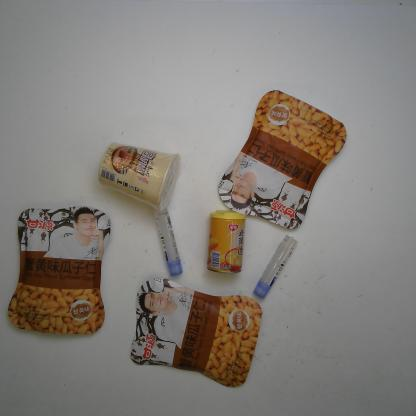Canned Food: (204, 209, 248, 274)
Dried Fruit: (216, 89, 348, 231), (130, 276, 263, 389), (6, 201, 113, 339)
Instant Noodles: (97, 141, 181, 211)
Stationery: (252, 234, 299, 300), (154, 205, 185, 277)
